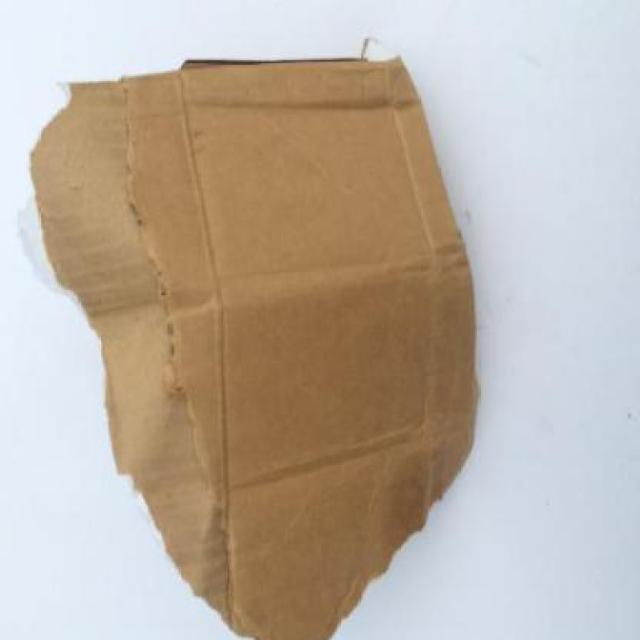box: (22, 39, 506, 640)
